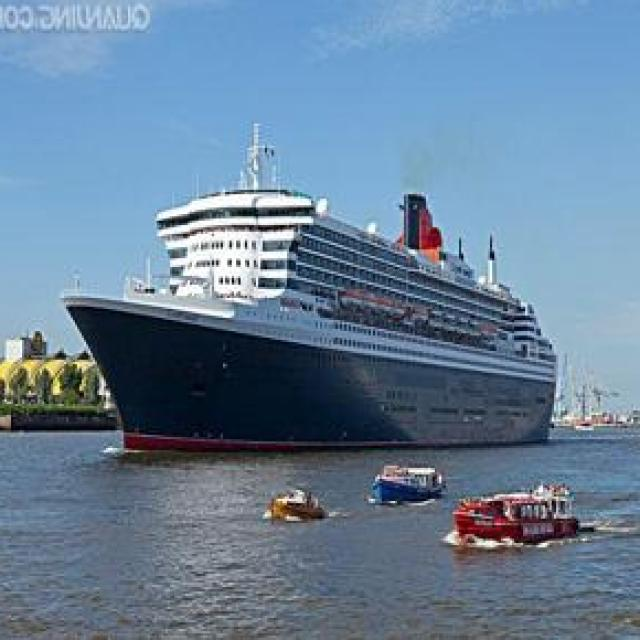houseboat: (447, 476, 582, 545), (367, 456, 450, 502), (264, 481, 324, 529)
passenger ship: (64, 110, 566, 455)
